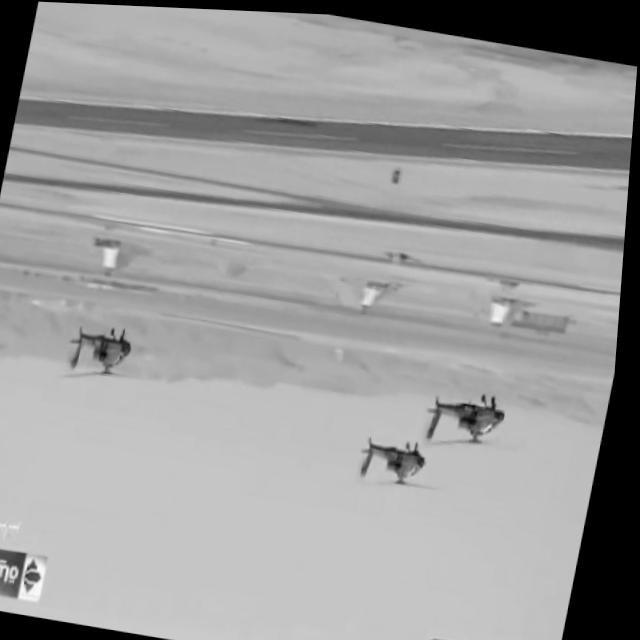helikopter: (44, 292, 157, 412), (350, 412, 442, 502)
